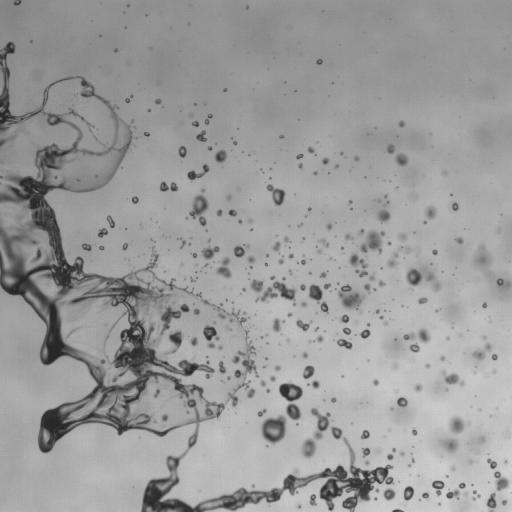droplet: (301, 408, 342, 458), (338, 285, 364, 312), (403, 328, 430, 352), (473, 244, 492, 277), (309, 283, 330, 312), (359, 230, 384, 253), (448, 416, 471, 434), (266, 184, 285, 205), (494, 471, 511, 491), (216, 257, 231, 278), (406, 268, 421, 287), (201, 246, 219, 260), (432, 480, 444, 496), (272, 318, 285, 332), (445, 438, 458, 452), (296, 319, 311, 331), (395, 153, 408, 166), (234, 245, 248, 257), (403, 486, 414, 501), (377, 210, 390, 222), (302, 365, 314, 378), (337, 339, 352, 349), (214, 150, 226, 162), (383, 488, 395, 500), (425, 206, 436, 219), (196, 130, 206, 141), (487, 458, 497, 468), (218, 361, 226, 373), (360, 329, 370, 338), (189, 336, 198, 346), (397, 397, 407, 406), (178, 146, 186, 157), (107, 216, 115, 227), (308, 380, 319, 388), (98, 228, 107, 237), (272, 241, 280, 251), (161, 413, 169, 423), (398, 233, 407, 241), (247, 255, 255, 264), (340, 314, 349, 322), (361, 430, 369, 439), (362, 448, 370, 457), (258, 409, 266, 417), (387, 144, 394, 153), (451, 202, 458, 211), (82, 243, 91, 250), (473, 490, 480, 499), (228, 209, 236, 216), (364, 284, 371, 292), (315, 335, 323, 342), (414, 384, 422, 391), (418, 297, 427, 303), (131, 196, 138, 203), (343, 327, 350, 334), (455, 237, 463, 243), (193, 307, 199, 315), (307, 147, 314, 153), (216, 209, 222, 216), (326, 223, 332, 230), (497, 278, 503, 285), (387, 453, 393, 460), (422, 492, 428, 499), (155, 98, 161, 104), (322, 158, 328, 164), (358, 229, 364, 235), (378, 280, 384, 286), (225, 325, 231, 331), (491, 354, 497, 360), (14, 0, 21, 5), (345, 234, 352, 239), (122, 243, 127, 250), (301, 257, 305, 265), (316, 59, 322, 64), (192, 121, 198, 126), (296, 154, 302, 159), (278, 258, 283, 264), (320, 272, 326, 277), (369, 274, 374, 280), (300, 284, 305, 290), (302, 352, 307, 358), (275, 365, 280, 371), (373, 379, 378, 385), (260, 380, 265, 386), (412, 429, 417, 435), (399, 121, 404, 126), (226, 195, 231, 200), (284, 237, 289, 242), (432, 249, 437, 254), (301, 302, 306, 307), (392, 364, 397, 369), (270, 376, 275, 381), (331, 397, 336, 402), (364, 460, 369, 465), (296, 503, 301, 508), (144, 132, 149, 136), (354, 156, 359, 160), (298, 163, 302, 168), (191, 253, 196, 257), (288, 254, 293, 258), (482, 302, 486, 307), (440, 356, 445, 360), (502, 500, 506, 505), (125, 98, 129, 102), (317, 249, 321, 253), (375, 309, 379, 313), (425, 363, 429, 367), (469, 459, 473, 463), (287, 313, 292, 316), (208, 146, 211, 150), (0, 159, 3, 163), (99, 246, 103, 249), (271, 276, 274, 280), (190, 278, 194, 281), (286, 338, 290, 341), (266, 389, 270, 392), (375, 449, 379, 452), (504, 460, 507, 464), (280, 135, 283, 138), (234, 141, 237, 144), (443, 171, 446, 174), (348, 200, 351, 203), (238, 220, 241, 223), (388, 242, 391, 245), (205, 263, 208, 266), (289, 271, 292, 274), (380, 316, 383, 319), (315, 327, 318, 330), (483, 336, 486, 339), (227, 376, 230, 379), (481, 438, 484, 441), (67, 77, 71, 79), (114, 49, 117, 51), (224, 88, 226, 91), (335, 165, 338, 167), (314, 171, 316, 174), (384, 195, 387, 197), (308, 207, 310, 210), (249, 219, 251, 222), (299, 223, 301, 226), (264, 263, 267, 265), (367, 323, 369, 326), (384, 322, 387, 324), (492, 370, 495, 372), (392, 449, 395, 451), (401, 452, 403, 455), (411, 459, 414, 461), (452, 467, 454, 470), (464, 492, 466, 495), (130, 95, 132, 97), (243, 312, 245, 314), (446, 337, 448, 339), (310, 340, 312, 342), (395, 390, 397, 392)
ligament: (0, 49, 392, 511), (261, 381, 302, 444), (250, 277, 296, 305), (189, 189, 208, 225), (0, 126, 28, 147), (67, 108, 93, 129), (203, 323, 223, 350), (349, 253, 367, 276), (187, 164, 209, 180), (441, 370, 464, 385), (446, 482, 465, 499), (473, 343, 491, 359), (426, 273, 440, 291), (104, 321, 117, 340), (486, 492, 497, 511), (160, 181, 178, 191), (387, 252, 398, 267), (399, 246, 411, 253), (319, 238, 328, 247), (205, 114, 212, 124), (180, 240, 185, 248), (392, 508, 403, 511), (18, 214, 24, 219)
